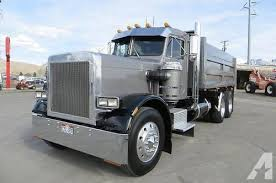truck: (30, 20, 237, 176)
